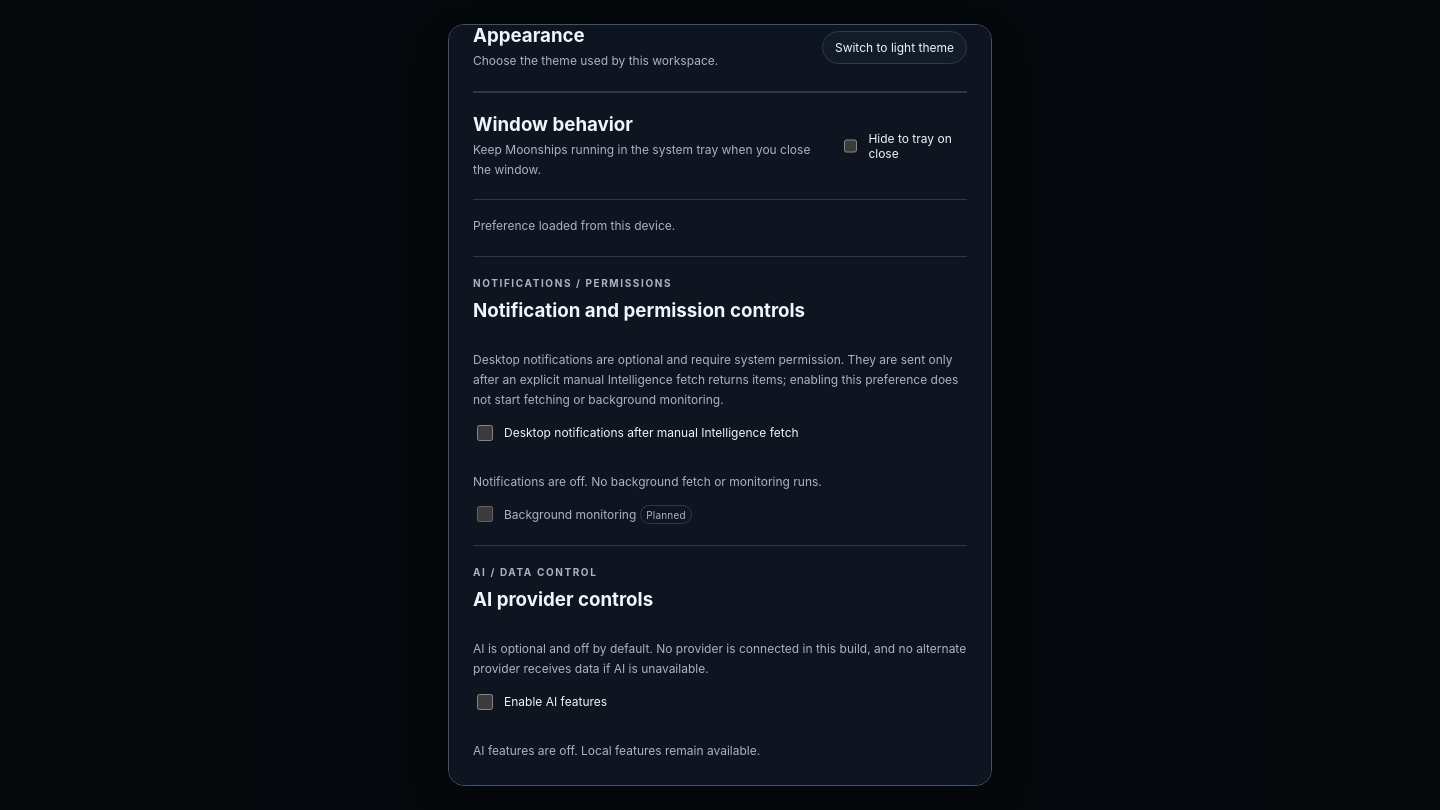
M7-015 user controlled AI setting › keeps the previous choice and reports a failed save
The image size is (1440, 810).
(page scrolled)
Click the checkbox labelled "Enable AI features" at (485, 702), box left=477, top=694, right=493, bottom=710
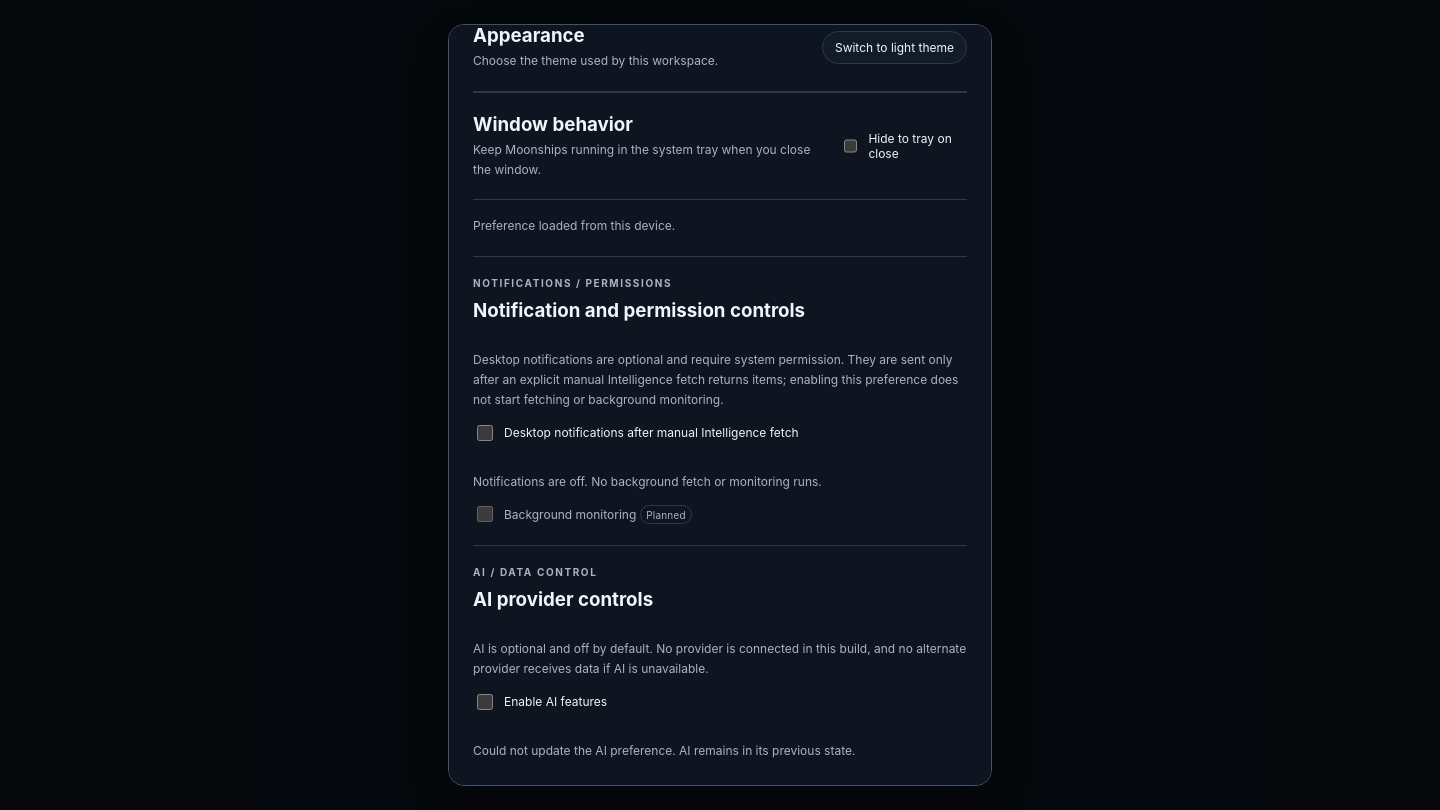
Check: the text "Could not update the AI preference. AI remains in its previous state." is shown, box left=473, top=743, right=855, bottom=758
